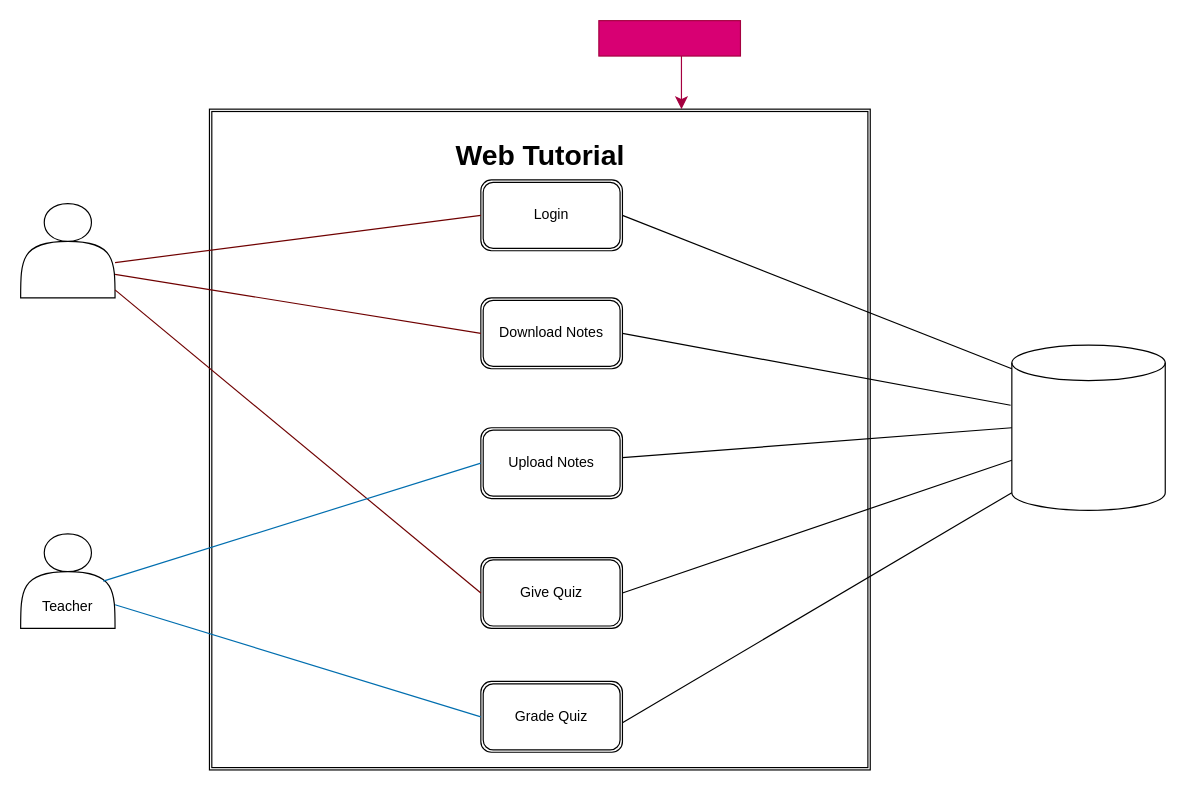
Some shapes in this 1186 by 791 pixel diagram are drawn without their labels. Here are the shapes that lost their labels. From the top down, the box of each, then its label:
(598, 19, 740, 56): System Boundary
(19, 202, 115, 298): Student
(1011, 344, 1165, 510): Server
